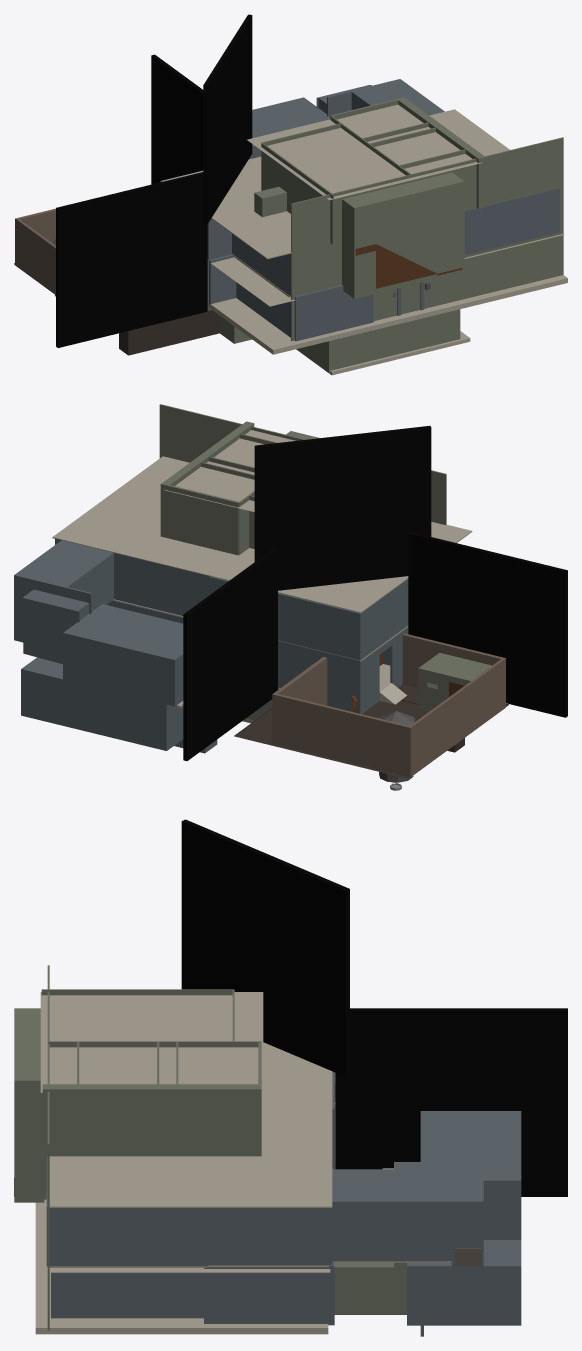
File: hauntedHouse.glb
3 views of the same model, one above another, from view 1: azimuth 30°, elevation 25°; view 2: azimuth 150°, elevation 25°; view 3: azimuth 270°, elevation 25° (orthographic). The views are drawn at different scales.
Parts seen in each view (by area): view 1: black_wall_2, Cube.047, Plane.009, Plane.007, black_wall_3, black_wall, Plane.005, Cube.095, Plane.013, Walls.005, Plane.011, Plane.016 (+13 smaller); view 2: black_wall_3, black_wall_2, Plane.016, black_wall, Plane.005, Walls.009, Walls.011, Walls, Plane.006, Walls.007, Walls.002, Walls.010 (+8 smaller); view 3: black_wall, black_wall_3, Plane.005, Plane.007, Plane.006, Walls.008, Walls.005, Walls.009, Walls.011, Walls.004, Walls.006, Walls.007 (+9 smaller).
Boxes of the visible parts, left/top/right/bottom form: black_wall_2: left=56, top=172, right=207, bottom=347; Cube.047: left=291, top=137, right=563, bottom=341; Plane.009: left=342, top=172, right=464, bottom=298; Plane.007: left=247, top=104, right=482, bottom=200; black_wall_3: left=203, top=14, right=252, bottom=224; black_wall: left=151, top=54, right=203, bottom=184; Plane.005: left=161, top=109, right=509, bottom=259; Cube.095: left=296, top=309, right=460, bottom=373; Plane.013: left=208, top=275, right=567, bottom=354; Walls.005: left=464, top=188, right=559, bottom=255; Plane.011: left=236, top=282, right=373, bottom=341; Plane.016: left=15, top=208, right=55, bottom=294; black_wall_3: left=254, top=425, right=431, bottom=590; black_wall_2: left=408, top=532, right=567, bottom=717; Plane.016: left=272, top=633, right=505, bottom=777; black_wall: left=183, top=548, right=277, bottom=760; Plane.005: left=52, top=456, right=472, bottom=612; Walls.009: left=63, top=604, right=183, bottom=706; Walls.011: left=21, top=657, right=217, bottom=753; Walls: left=209, top=576, right=408, bottom=660; Plane.006: left=160, top=421, right=254, bottom=555; Walls.007: left=107, top=600, right=408, bottom=707; Walls.002: left=114, top=553, right=209, bottom=615; Walls.010: left=14, top=574, right=92, bottom=664; black_wall: left=335, top=1008, right=567, bottom=1196; black_wall_3: left=181, top=819, right=349, bottom=1076; Plane.005: left=49, top=1042, right=332, bottom=1207; Plane.007: left=40, top=992, right=263, bottom=1092; Plane.006: left=42, top=1041, right=261, bottom=1156; Walls.008: left=332, top=1169, right=451, bottom=1261; Walls.005: left=46, top=1157, right=208, bottom=1266; Walls.009: left=420, top=1111, right=521, bottom=1239; Walls.011: left=394, top=1240, right=521, bottom=1336; Walls.004: left=208, top=1208, right=332, bottom=1265; Walls.006: left=51, top=1272, right=203, bottom=1318; Walls.007: left=204, top=1168, right=334, bottom=1325.
Size of what is drawn, in the model's own units: 52.82 by 31.2 by 42.23.
